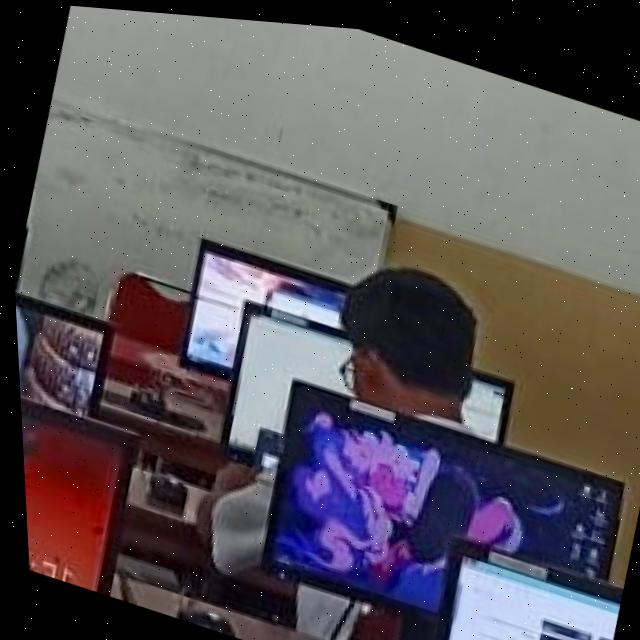onscreen: (259, 377, 617, 605), (180, 237, 344, 372), (16, 400, 129, 591), (432, 535, 616, 640), (227, 304, 348, 447), (12, 293, 105, 414), (457, 364, 507, 433)
